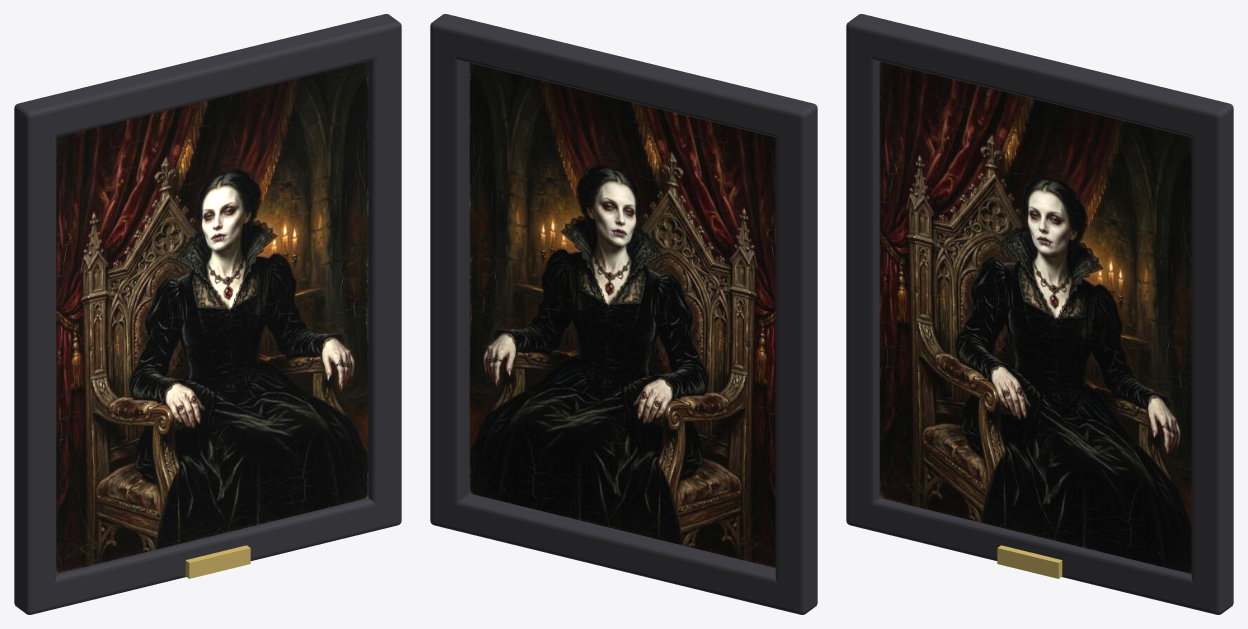
The model's file is art_vampire_countess.glb.
3 renders of one model, left to right at view 1: azimuth 30°, elevation 25°; view 2: azimuth 150°, elevation 25°; view 3: azimuth 330°, elevation 25°, orthographic.
Visible parts, largest first — view 1: GD_art_vampire_countess__m0, GD_art_vampire_countess__m1, GD_art_vampire_countess__m2; view 2: GD_art_vampire_countess__m0, GD_art_vampire_countess__m1; view 3: GD_art_vampire_countess__m0, GD_art_vampire_countess__m1, GD_art_vampire_countess__m2.
Boxes of the visible parts, x1,y1,x2,y2 form: GD_art_vampire_countess__m0: (56, 61, 368, 573); GD_art_vampire_countess__m1: (14, 14, 401, 614); GD_art_vampire_countess__m2: (185, 545, 250, 578); GD_art_vampire_countess__m0: (469, 63, 775, 567); GD_art_vampire_countess__m1: (430, 14, 817, 614); GD_art_vampire_countess__m0: (879, 61, 1191, 573); GD_art_vampire_countess__m1: (846, 14, 1233, 614); GD_art_vampire_countess__m2: (997, 545, 1062, 578).
Bounding box in the file's own units: 0.86 × 1.1 × 0.0775.
3 materials, 1 textured.
